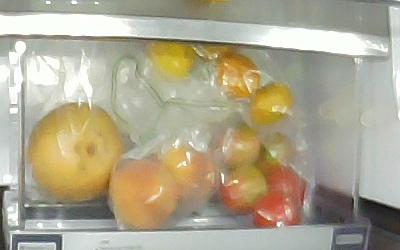peach_vinyl: (110, 165, 176, 230), (156, 151, 217, 198)
pear_vinyl: (27, 102, 124, 199)
tangerine_vinyl: (215, 52, 260, 101), (250, 79, 295, 125), (145, 42, 194, 78), (193, 43, 240, 61)
tomato_vinyl: (220, 165, 269, 216), (251, 193, 302, 229), (258, 132, 294, 176), (266, 166, 304, 207), (223, 127, 259, 169)
